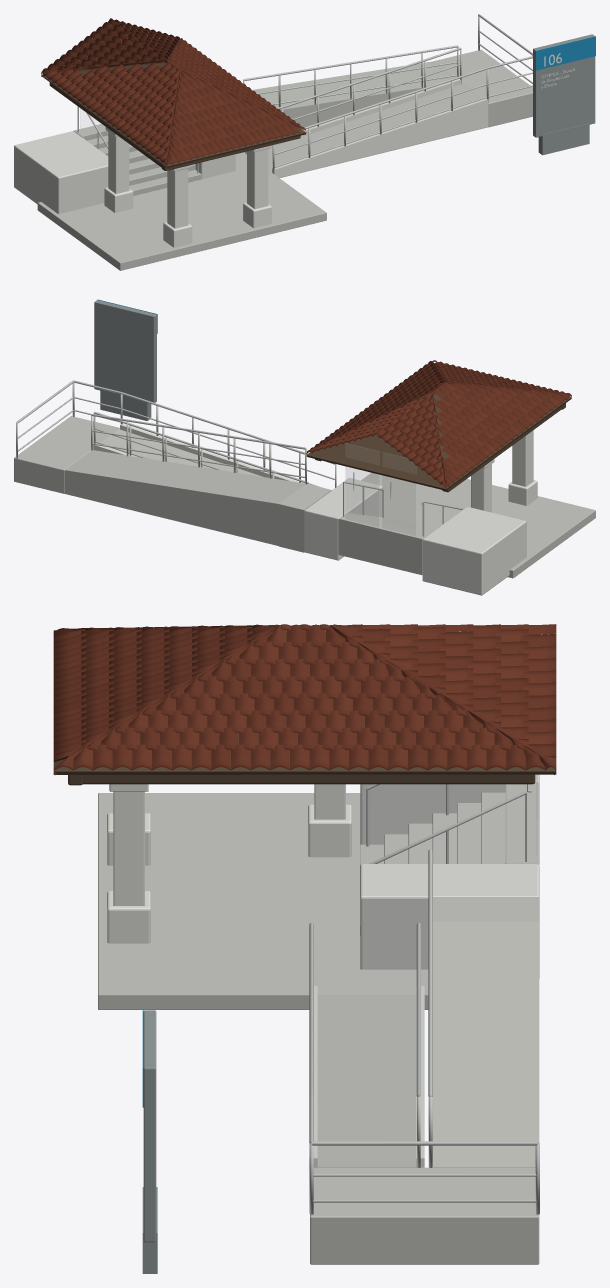
File: entrada.glb
3 views of the same model, one above another, from view 1: azimuth 30°, elevation 25°; view 2: azimuth 150°, elevation 25°; view 3: azimuth 270°, elevation 25° (orthographic). The views are drawn at different scales.
Visible parts, largest first — view 1: Pale cast concrete — entrance, Pale cast concrete — entrance slab, Fresh cream trim, Warm lime-painted plaster, 106 sign grey, Galvanized guardrail, Clay terracotta 04, Clay terracotta 03, Clay terracotta 02, Clay terracotta 06, Clay terracotta 07, Clay terracotta 01 (+5 smaller); view 2: Pale cast concrete — entrance, Warm lime-painted plaster, Pale cast concrete — entrance slab, 106 sign grey, Galvanized guardrail, Window glass, Dark stained roof timber, Fresh cream trim, Clay terracotta 04, Clay terracotta 02, Clay terracotta 08, Clay terracotta 07 (+5 smaller); view 3: Pale cast concrete — entrance, Pale cast concrete — entrance slab, Warm lime-painted plaster, Clay terracotta 03, Fresh cream trim, Clay terracotta 05, Dark stained roof timber, Clay terracotta 02, Clay terracotta 07, Clay terracotta 06, Galvanized guardrail, Clay terracotta 01 (+4 smaller).
Boxes of the visible parts, x1,y1,x2,y2 form: Pale cast concrete — entrance: [74, 46, 532, 195]; Pale cast concrete — entrance slab: [37, 152, 326, 270]; Fresh cream trim: [104, 53, 574, 247]; Warm lime-painted plaster: [14, 131, 235, 213]; 106 sign grey: [533, 34, 595, 155]; Galvanized guardrail: [77, 14, 532, 173]; Clay terracotta 04: [57, 23, 263, 154]; Clay terracotta 03: [82, 18, 290, 155]; Clay terracotta 02: [53, 24, 295, 153]; Clay terracotta 06: [42, 24, 300, 164]; Clay terracotta 07: [41, 21, 300, 149]; Clay terracotta 01: [48, 28, 248, 162]; Pale cast concrete — entrance: [14, 394, 434, 574]; Warm lime-painted plaster: [304, 478, 526, 595]; Pale cast concrete — entrance slab: [361, 472, 595, 578]; 106 sign grey: [94, 300, 156, 420]; Galvanized guardrail: [16, 380, 463, 536]; Window glass: [345, 443, 416, 535]; Dark stained roof timber: [306, 394, 571, 492]; Fresh cream trim: [93, 424, 537, 512]; Clay terracotta 04: [326, 370, 556, 474]; Clay terracotta 02: [324, 364, 554, 478]; Clay terracotta 08: [318, 360, 561, 483]; Clay terracotta 07: [324, 363, 542, 488]; Pale cast concrete — entrance: [310, 782, 539, 1264]; Pale cast concrete — entrance slab: [98, 793, 428, 1009]; Warm lime-painted plaster: [360, 774, 539, 978]; Clay terracotta 03: [53, 624, 556, 770]; Fresh cream trim: [107, 784, 424, 1212]; Clay terracotta 05: [53, 624, 556, 770]; Dark stained roof timber: [53, 631, 556, 785]; Clay terracotta 02: [53, 624, 556, 770]; Clay terracotta 07: [53, 624, 556, 770]; Clay terracotta 06: [53, 624, 556, 770]; Galvanized guardrail: [309, 784, 539, 1214]; Clay terracotta 01: [53, 624, 556, 770].
Size of the model in its own units: 13.42 by 3.78 by 6.
